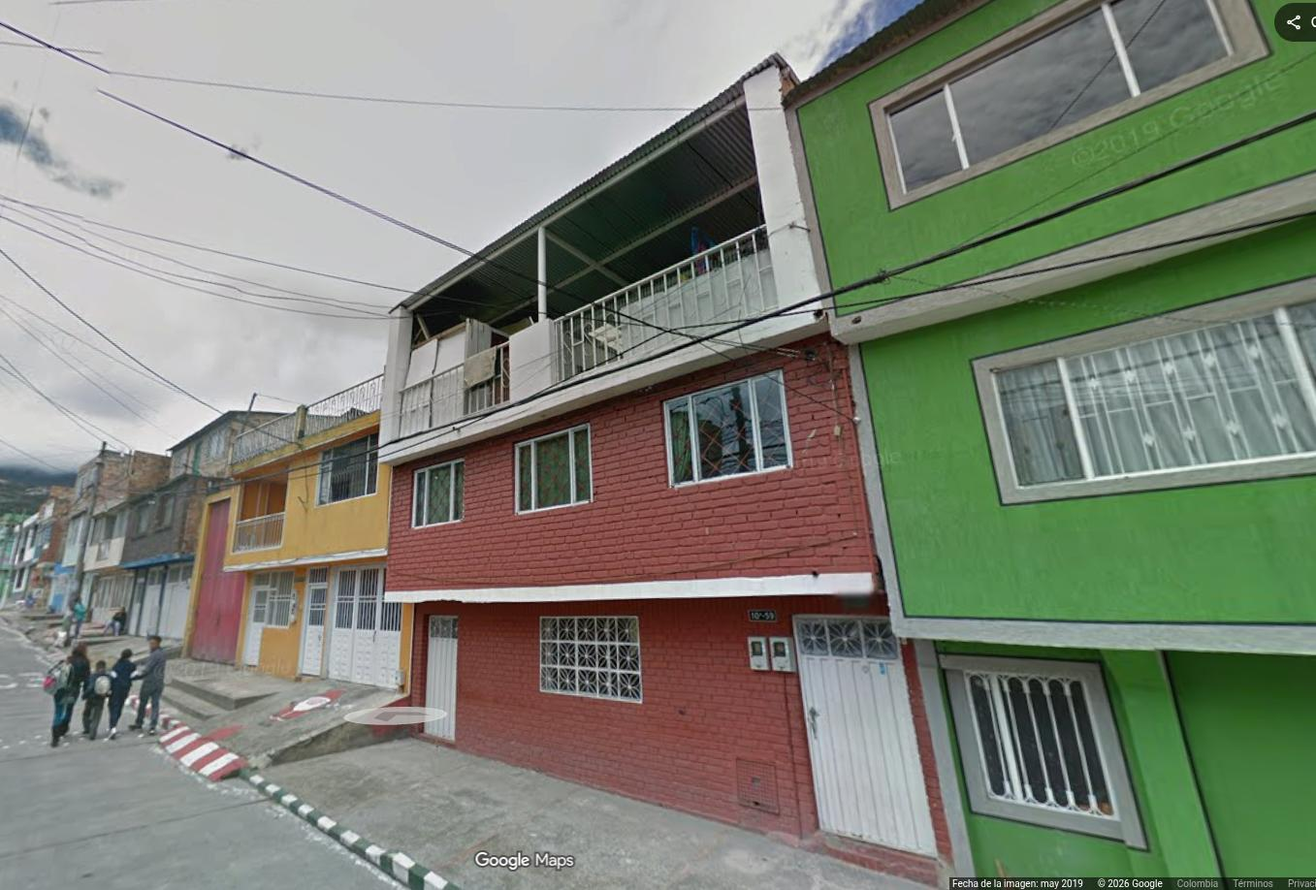casa: (779, 0, 1315, 878), (381, 54, 948, 881), (186, 377, 410, 688), (119, 411, 243, 638)
poste: (66, 508, 90, 615), (95, 442, 103, 473), (92, 476, 98, 506), (71, 619, 82, 635), (62, 632, 71, 644)
